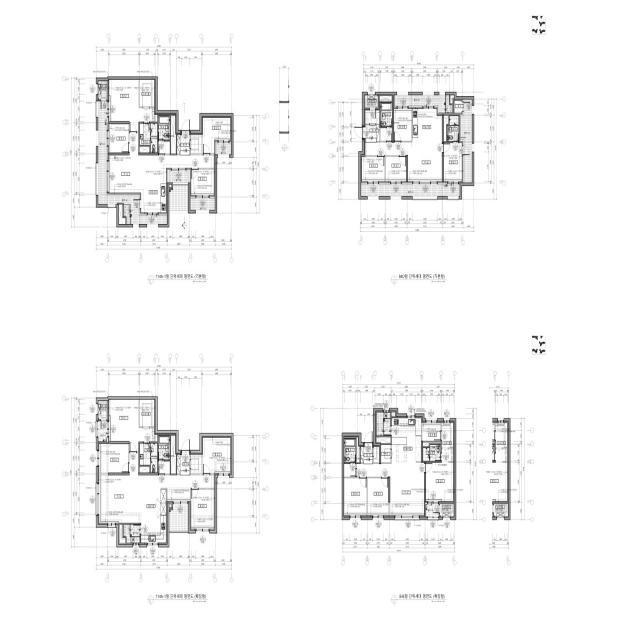space_balconi: (98, 101, 167, 224), (361, 184, 460, 197), (395, 95, 452, 113), (461, 99, 472, 183), (169, 506, 188, 531), (169, 186, 188, 211), (123, 525, 140, 543), (190, 198, 215, 210), (377, 413, 390, 436), (169, 171, 188, 183), (98, 421, 107, 441), (216, 143, 231, 155), (426, 504, 439, 517)
space_bedroom: (109, 400, 154, 452), (109, 80, 154, 132), (203, 437, 231, 473), (203, 117, 231, 153), (191, 490, 215, 529), (344, 478, 367, 515), (99, 444, 128, 473), (368, 478, 388, 515), (444, 143, 462, 182), (191, 170, 215, 196), (362, 157, 385, 182), (109, 124, 128, 153), (386, 157, 406, 182)
space_dressroom: (140, 400, 155, 427), (140, 80, 155, 107), (442, 423, 453, 448)
space_front: (361, 444, 379, 463), (177, 133, 190, 155), (177, 455, 190, 475), (365, 125, 380, 142)
space_kitchen: (141, 489, 166, 543), (392, 418, 421, 463), (141, 170, 166, 213), (412, 109, 442, 142)
space_living_room: (99, 453, 215, 523), (107, 132, 215, 194), (356, 463, 424, 515), (365, 143, 442, 182)
space_other: (426, 449, 453, 501), (394, 109, 411, 141), (422, 423, 441, 441), (167, 488, 190, 501), (191, 134, 202, 153), (191, 455, 202, 473), (365, 110, 379, 124), (171, 436, 176, 474), (171, 116, 176, 154), (381, 445, 391, 463), (344, 463, 356, 477), (158, 461, 170, 474), (158, 141, 170, 154), (381, 128, 392, 141), (119, 525, 125, 544), (119, 205, 125, 224), (444, 116, 448, 141), (454, 101, 462, 113), (423, 442, 441, 447), (377, 437, 391, 443), (357, 437, 360, 462), (139, 147, 149, 153), (380, 96, 392, 101), (450, 95, 454, 103), (155, 434, 157, 442), (391, 412, 395, 416), (155, 114, 157, 122), (169, 504, 171, 507), (169, 185, 171, 187)
space_outdoor_room: (440, 504, 454, 517), (98, 401, 107, 420), (98, 81, 107, 100), (365, 95, 378, 108)
space_toilet: (139, 443, 157, 473), (140, 124, 157, 153), (380, 102, 392, 127), (447, 116, 459, 141), (158, 436, 170, 460), (423, 445, 441, 461), (158, 116, 170, 140), (344, 439, 356, 462)
